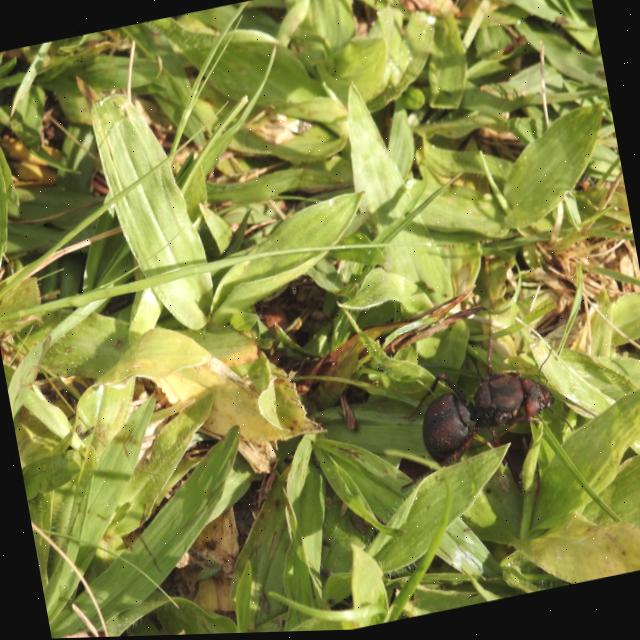Alive-Female-Dealate: (374, 302, 580, 509)
